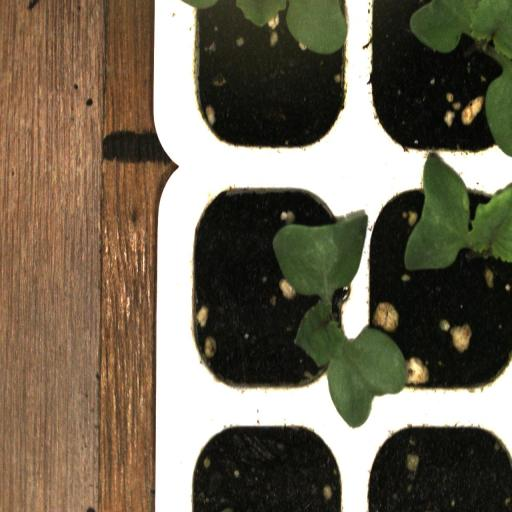Folha: (404, 156, 512, 271), (233, 0, 347, 56)
Germinacao: (181, 171, 360, 405)
